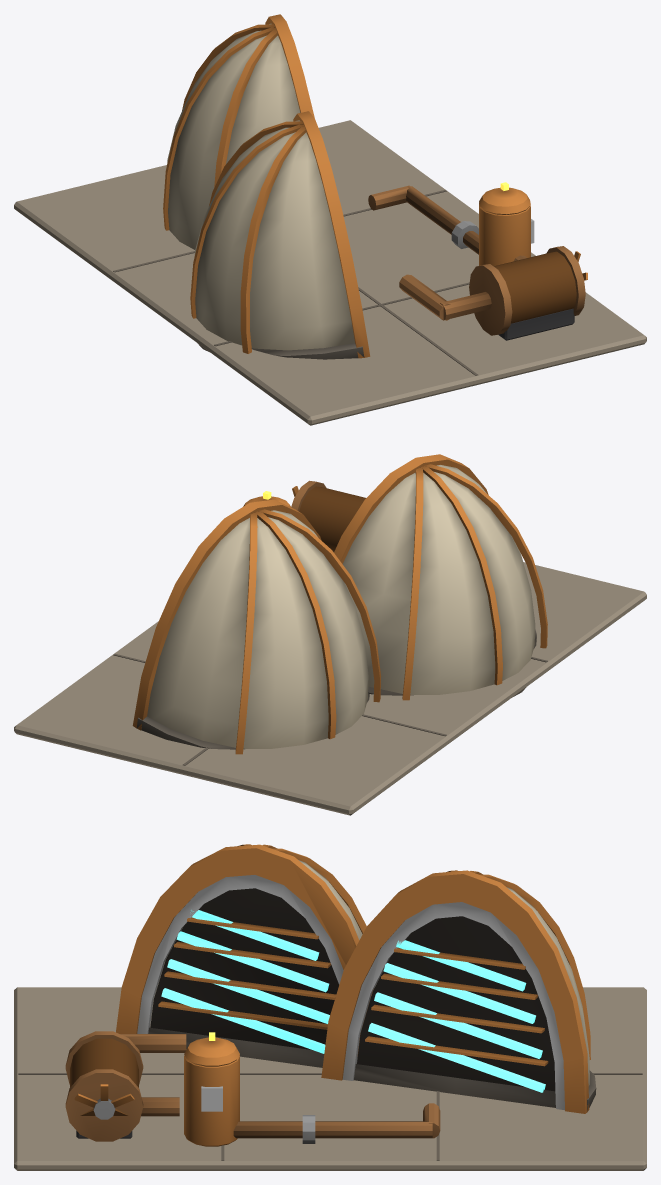
The model's file is WIND_TRAP.glb.
3 renders of one model, top to bottom at view 1: azimuth 30°, elevation 25°; view 2: azimuth 150°, elevation 25°; view 3: azimuth 270°, elevation 25°, orthographic. The views are drawn at different scales.
Parts seen in each view (by area): view 1: base, shell_S, shell_N, turbine; view 2: shell_N, shell_S, base, turbine; view 3: base, shell_N, shell_S, turbine, fan.
Boxes of the visible parts, x1,y1,x2,y2 form: base: (14,120,646,425); shell_S: (190,111,370,359); shell_N: (163,14,314,249); turbine: (368,182,585,340); shell_N: (132,499,381,754); shell_S: (334,454,547,700); base: (14,562,646,815); turbine: (243,480,365,552); base: (14,987,646,1170); shell_N: (321,870,596,1113); shell_S: (116,844,376,1067); turbine: (65,1031,440,1146); fan: (74,1084,134,1119).
Size of the model in its own units: 1.94 by 1.18 by 2.94.
